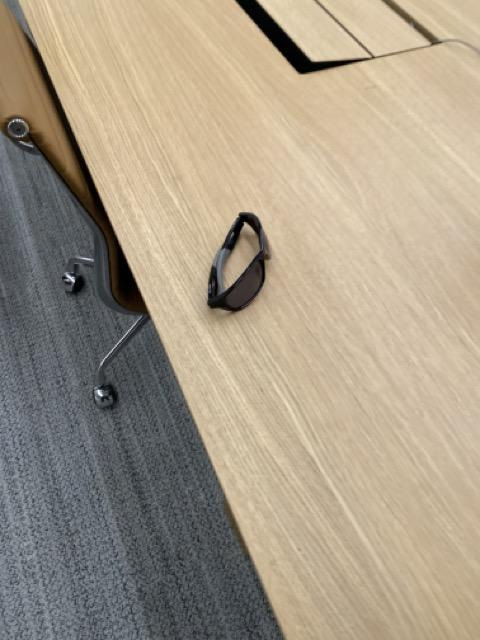Sunglasses: (206, 210, 272, 314)
